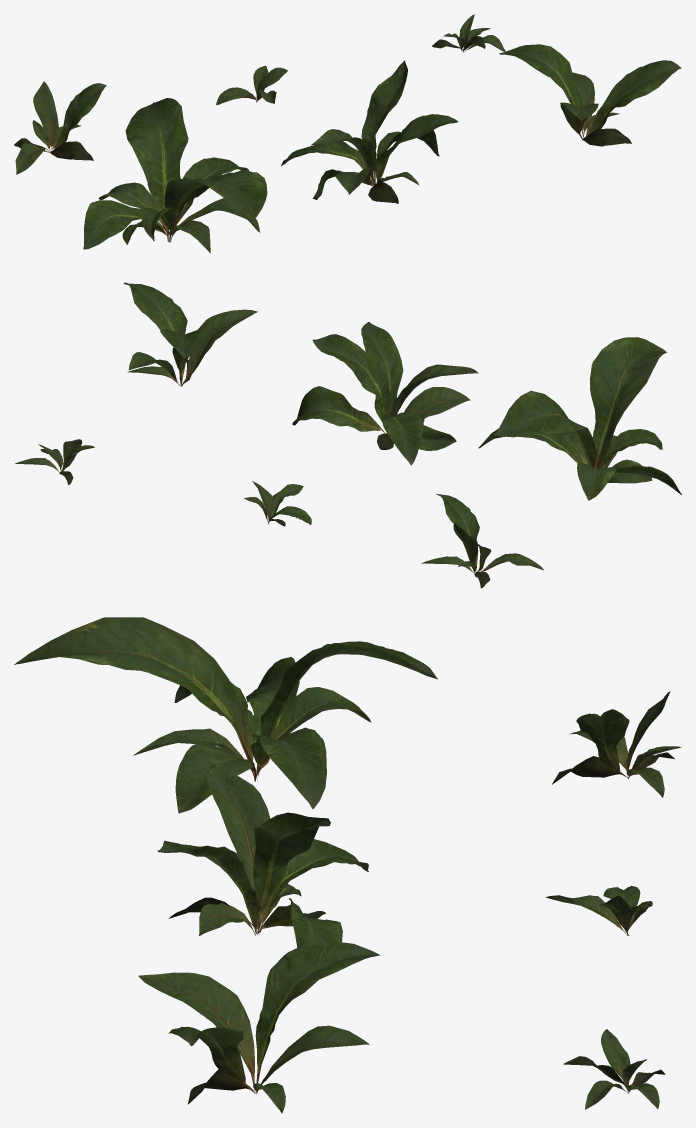
Rendered from folhagem3.glb.
The picture shows the model from 3 angles, top to bottom: view 1: azimuth 30°, elevation 25°; view 2: azimuth 150°, elevation 25°; view 3: azimuth 270°, elevation 25°; orthographic projection. The views are drawn at different scales.
Visible parts, largest first — view 1: anthurium_botany_01_a, anthurium_botany_01_b, anthurium_botany_01_c, anthurium_botany_04_d, anthurium_botany_05_e, anthurium_botany_06_f; view 2: anthurium_botany_01_a, anthurium_botany_01_b, anthurium_botany_01_c, anthurium_botany_04_d, anthurium_botany_05_e, anthurium_botany_06_f; view 3: anthurium_botany_01_a, anthurium_botany_01_b, anthurium_botany_01_c, anthurium_botany_04_d, anthurium_botany_06_f, anthurium_botany_05_e.
Boxes of the visible parts, left/top/right/bottom form: anthurium_botany_01_a: left=83, top=98, right=267, bottom=253; anthurium_botany_01_b: left=281, top=60, right=458, bottom=203; anthurium_botany_01_c: left=499, top=44, right=681, bottom=146; anthurium_botany_04_d: left=14, top=81, right=106, bottom=174; anthurium_botany_05_e: left=216, top=65, right=287, bottom=105; anthurium_botany_06_f: left=432, top=14, right=505, bottom=52; anthurium_botany_01_a: left=478, top=337, right=681, bottom=500; anthurium_botany_01_b: left=292, top=322, right=478, bottom=465; anthurium_botany_01_c: left=123, top=282, right=257, bottom=386; anthurium_botany_04_d: left=421, top=493, right=543, bottom=588; anthurium_botany_05_e: left=244, top=481, right=311, bottom=526; anthurium_botany_06_f: left=15, top=439, right=94, bottom=484; anthurium_botany_01_a: left=14, top=617, right=437, bottom=813; anthurium_botany_01_b: left=157, top=762, right=368, bottom=947; anthurium_botany_01_c: left=138, top=941, right=380, bottom=1113; anthurium_botany_04_d: left=552, top=691, right=681, bottom=797; anthurium_botany_06_f: left=563, top=1029, right=665, bottom=1109; anthurium_botany_05_e: left=545, top=885, right=652, bottom=935.
Bounding box in the file's own units: 2.79 × 0.4982 × 1.8.
Materials: 1 (1 with a texture image).
